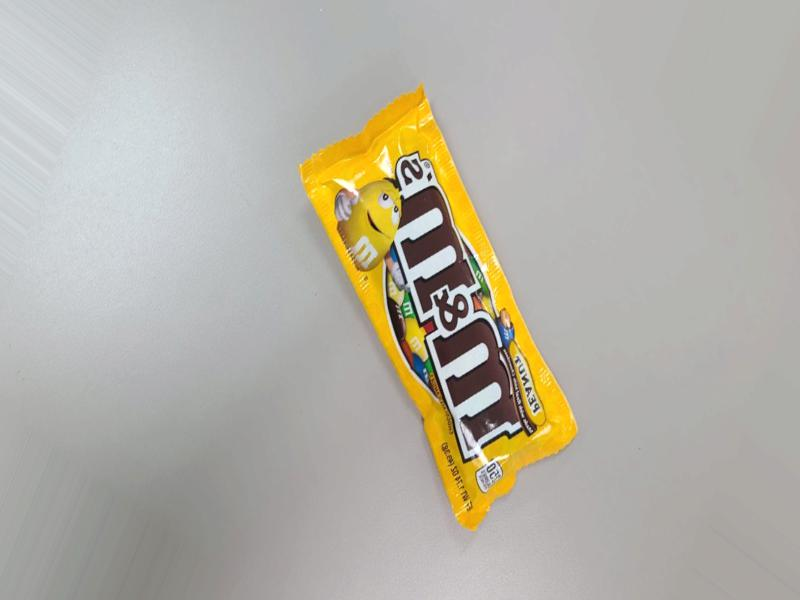m&m: (380, 80, 594, 534)
